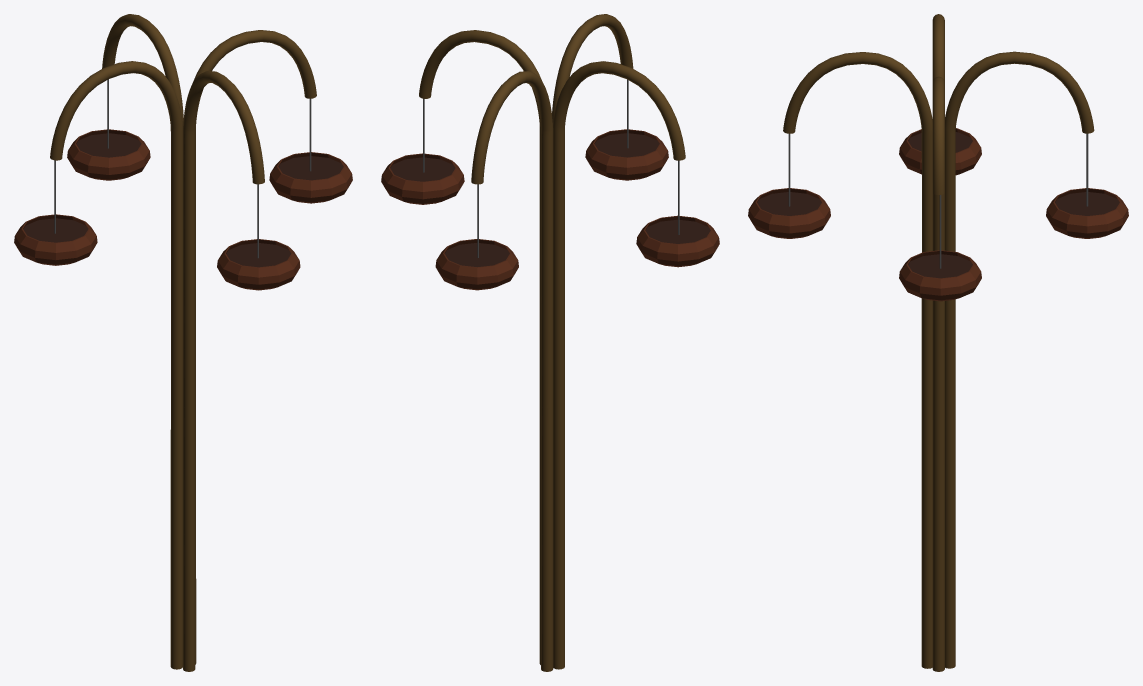
The model's file is pot.fbx.
3 renders of one model, left to right at view 1: azimuth 30°, elevation 25°; view 2: azimuth 150°, elevation 25°; view 3: azimuth 270°, elevation 25°, orthographic.
Visible parts, largest first — view 1: BezierCurve.001, BezierCurve.004, BezierCurve.003, Cylinder.002, Cylinder, Cylinder.003, Cylinder.001, BezierCurve.002, soil, soil.001, soil.002, soil.003; view 2: BezierCurve.002, BezierCurve.001, BezierCurve.003, Cylinder.001, Cylinder.002, Cylinder, Cylinder.003, BezierCurve.004, soil, soil.002, soil.001, soil.003; view 3: BezierCurve.004, BezierCurve.002, BezierCurve.003, Cylinder, Cylinder.002, Cylinder.003, Cylinder.001, soil, soil.002, soil.003, BezierCurve.001.
Part boxes in pixels (left/top/right/bottom): BezierCurve.001: left=50, top=61, right=182, bottom=669; BezierCurve.004: left=183, top=71, right=264, bottom=671; BezierCurve.003: left=192, top=30, right=316, bottom=664; Cylinder.002: left=217, top=239, right=300, bottom=290; Cylinder: left=269, top=152, right=352, bottom=203; Cylinder.003: left=67, top=129, right=150, bottom=180; Cylinder.001: left=14, top=214, right=97, bottom=265; BezierCurve.002: left=102, top=14, right=183, bottom=125; soil: left=278, top=156, right=343, bottom=180; soil.001: left=23, top=218, right=88, bottom=242; soil.002: left=226, top=243, right=290, bottom=267; soil.003: left=76, top=133, right=141, bottom=157; BezierCurve.002: left=471, top=71, right=553, bottom=671; BezierCurve.001: left=553, top=61, right=685, bottom=669; BezierCurve.003: left=419, top=30, right=541, bottom=664; Cylinder.001: left=636, top=215, right=719, bottom=267; Cylinder.002: left=585, top=129, right=668, bottom=180; Cylinder: left=381, top=153, right=464, bottom=204; Cylinder.003: left=435, top=239, right=518, bottom=290; BezierCurve.004: left=552, top=14, right=633, bottom=122; soil: left=390, top=157, right=455, bottom=181; soil.002: left=595, top=133, right=659, bottom=157; soil.001: left=645, top=219, right=710, bottom=243; soil.003: left=445, top=243, right=509, bottom=267; BezierCurve.004: left=783, top=52, right=932, bottom=668; BezierCurve.002: left=945, top=51, right=1094, bottom=668; BezierCurve.003: left=932, top=76, right=944, bottom=671; Cylinder: left=899, top=250, right=981, bottom=301; Cylinder.002: left=748, top=188, right=830, bottom=238; Cylinder.003: left=1046, top=188, right=1128, bottom=238; Cylinder.001: left=899, top=128, right=981, bottom=175; soil: left=908, top=254, right=972, bottom=278; soil.002: left=757, top=192, right=821, bottom=215; soil.003: left=1055, top=192, right=1119, bottom=215; BezierCurve.001: left=932, top=14, right=944, bottom=82.
Size of the model in its own units: 445 by 801 by 450.
